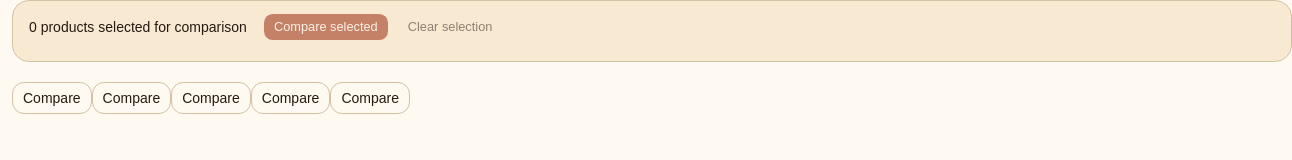
it: ComparisonTray › announces capacity when a fifth product is selected
Click the button with aria-label "Compare product".
click(52, 98)  # box left=12, top=82, right=92, bottom=114
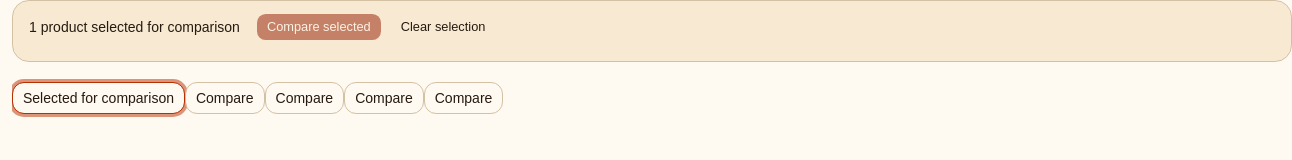
Click the button with aria-label "Compare product".
click(225, 98)  # box left=185, top=82, right=265, bottom=114
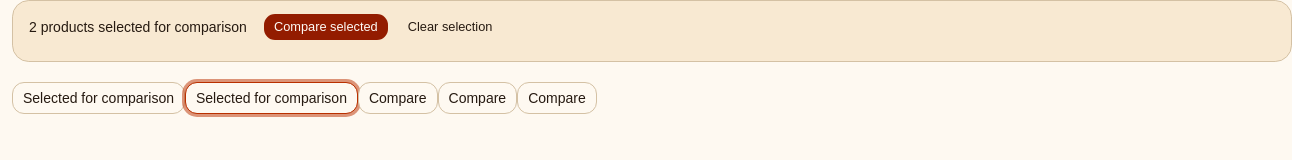
Click the button with aria-label "Compare product".
click(398, 98)  # box left=358, top=82, right=438, bottom=114
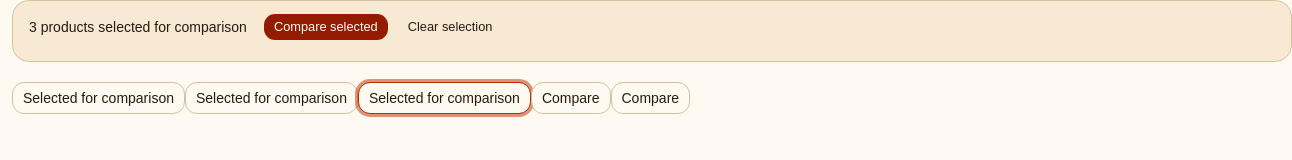
Click the button with aria-label "Compare product".
click(571, 98)  # box left=531, top=82, right=610, bottom=114
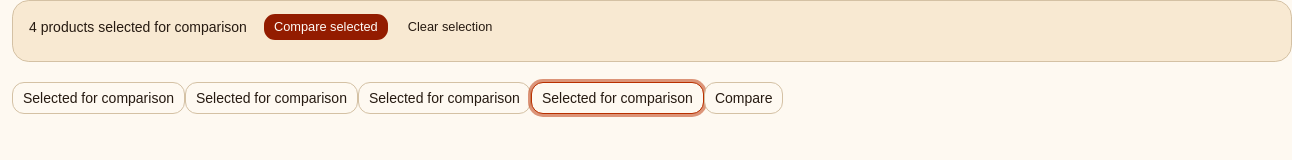
Click the button with aria-label "Compare product".
click(744, 98)  # box left=704, top=82, right=784, bottom=114
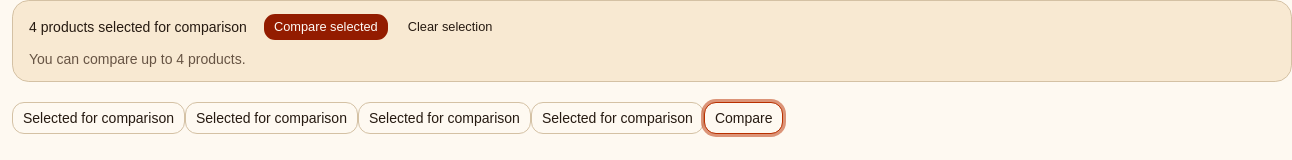
Check: the text "4 products selected for comparison" is shown, box left=29, top=17, right=247, bottom=37
Check: the message reads "You can compare up to 4 products.", box left=29, top=51, right=246, bottom=67
